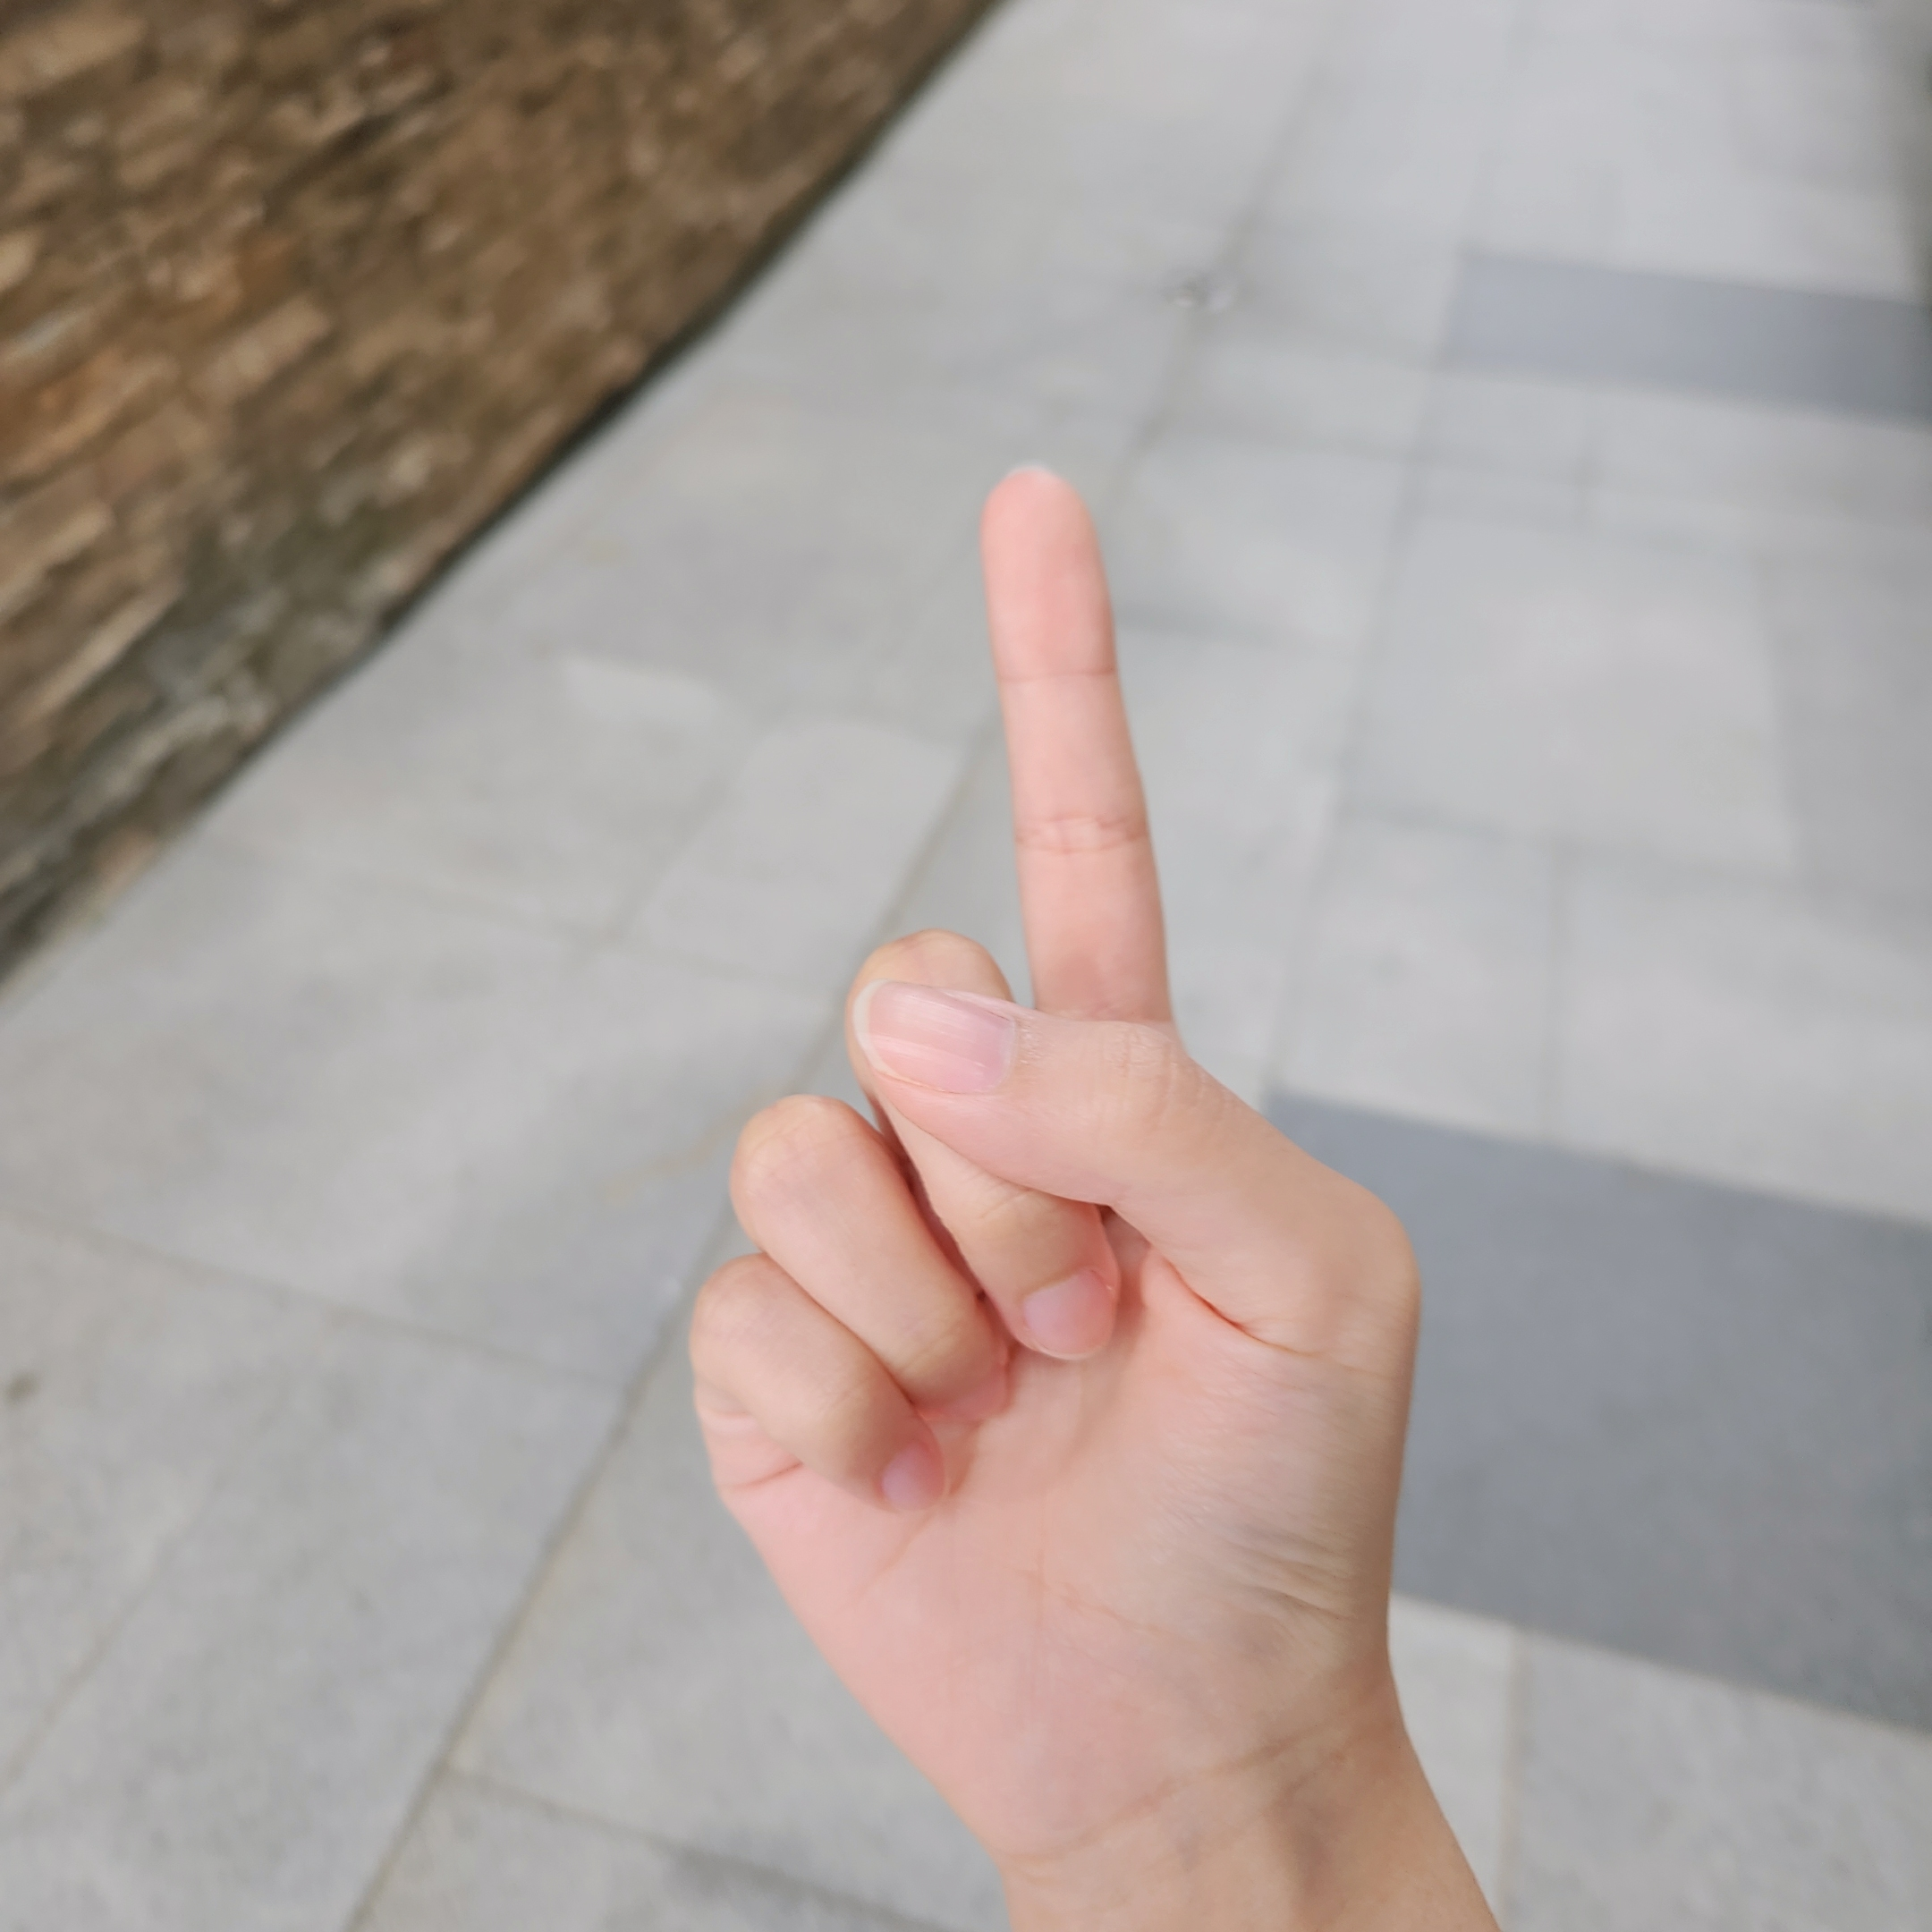what: (663, 456, 1424, 1785)
